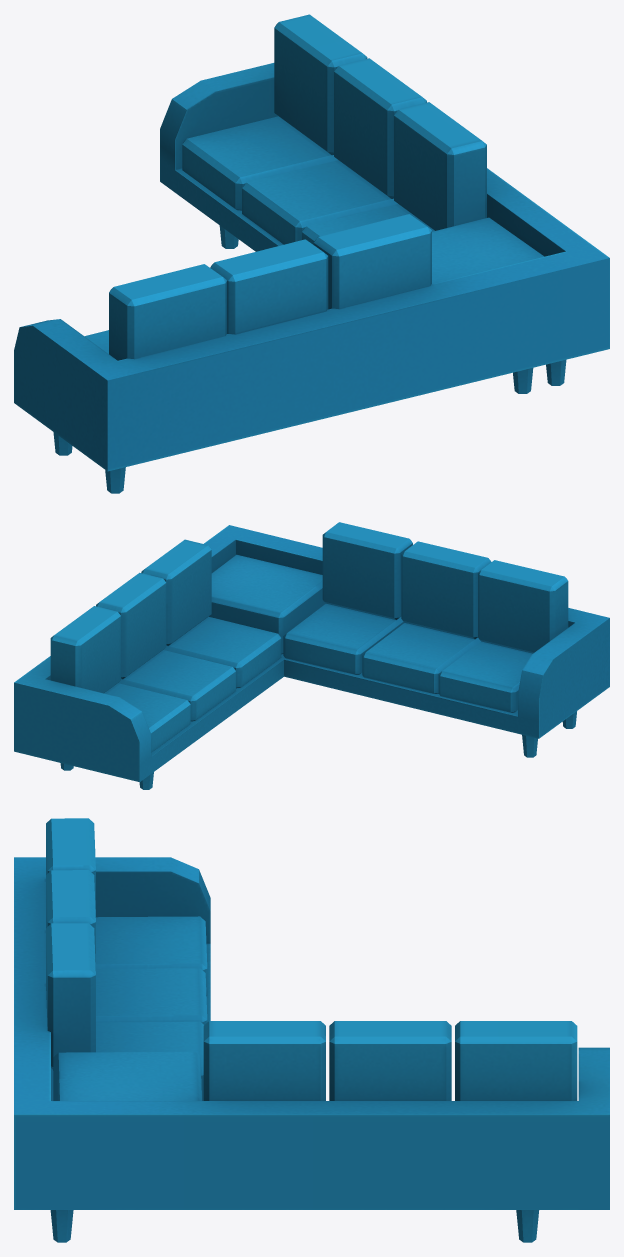
Rendered from sofa03.fbx.
The picture shows the model from 3 angles, top to bottom: view 1: azimuth 30°, elevation 25°; view 2: azimuth 150°, elevation 25°; view 3: azimuth 270°, elevation 25°; orthographic projection. The views are drawn at different scales.
Visible parts, largest first — view 1: polySurface173; view 2: polySurface173; view 3: polySurface173.
Part boxes in pixels (box(x1,y1,x2,y2)): polySurface173: box(14, 14, 609, 493); polySurface173: box(14, 522, 609, 789); polySurface173: box(14, 818, 609, 1242).
Bounding box in the file's own units: 53.34 × 19.45 × 52.24.
Materials: 1 (1 with a texture image).
